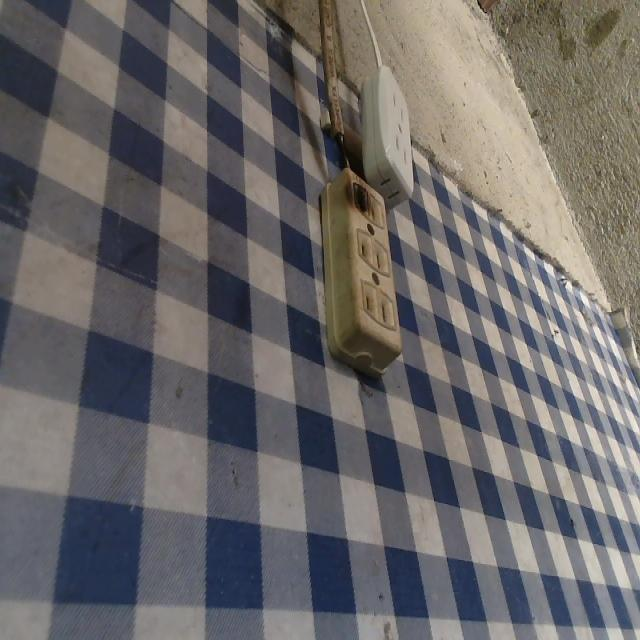-: (346, 170, 372, 227)
